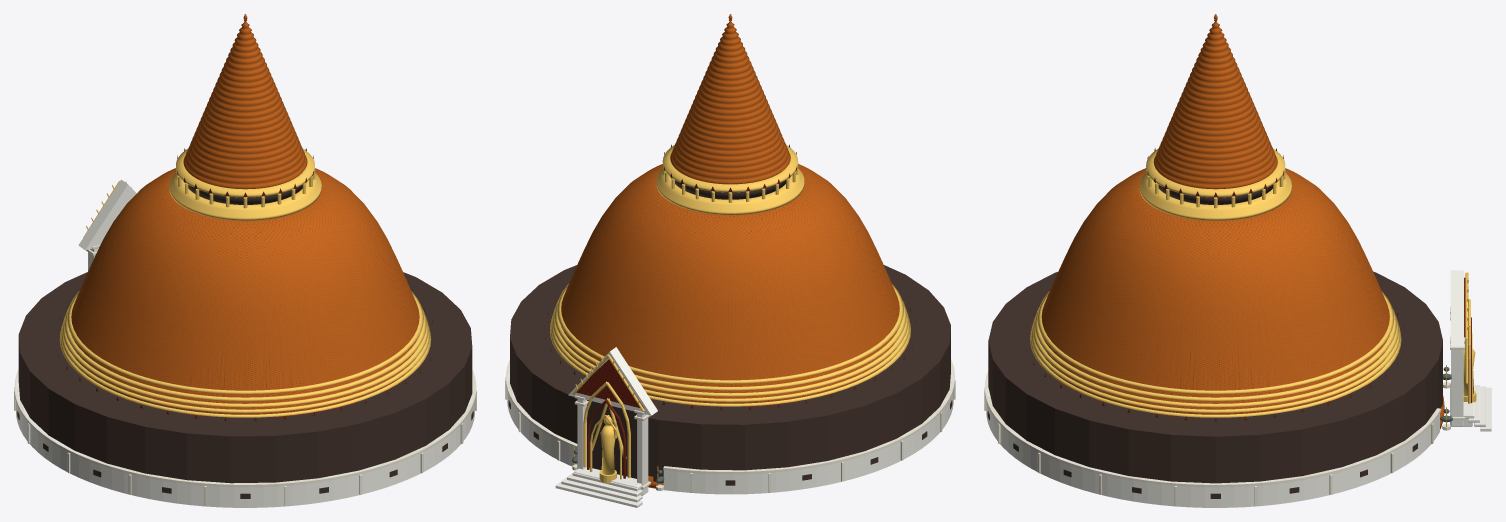
File: HNP_Chedi_v009.fbx
The picture shows the model from 3 angles, left to right: view 1: azimuth 30°, elevation 25°; view 2: azimuth 150°, elevation 25°; view 3: azimuth 270°, elevation 25°; orthographic projection. The views are drawn at different scales.
Visible parts, largest first — view 1: HNP_Chedi_v009_HNP009_GoldBrick, COLL_ChediBase, HNP_Chedi_v009_HNP009_GoldHighlight, HNP_Chedi_v009_HNP009_White, HNP_Chedi_v009_HNP009_Ivory, HNP_Chedi_v009_HNP009_DarkInset, HNP_Chedi_v009_HNP009_Terracotta; view 2: HNP_Chedi_v009_HNP009_GoldBrick, COLL_ChediBase, HNP_Chedi_v009_HNP009_GoldHighlight, HNP_Chedi_v009_HNP009_White, HNP_Chedi_v009_HNP009_Ivory, HNP_Chedi_v009_HNP009_DarkInset, HNP_Chedi_v009_HNP009_Terracotta; view 3: HNP_Chedi_v009_HNP009_GoldBrick, COLL_ChediBase, HNP_Chedi_v009_HNP009_GoldHighlight, HNP_Chedi_v009_HNP009_White, HNP_Chedi_v009_HNP009_Ivory, HNP_Chedi_v009_HNP009_DarkInset, HNP_Chedi_v009_HNP009_Terracotta.
Part boxes in pixels (bbox=[...]): HNP_Chedi_v009_HNP009_GoldBrick: bbox=[71, 14, 419, 414]; COLL_ChediBase: bbox=[18, 272, 472, 483]; HNP_Chedi_v009_HNP009_GoldHighlight: bbox=[59, 149, 431, 417]; HNP_Chedi_v009_HNP009_White: bbox=[16, 179, 474, 507]; HNP_Chedi_v009_HNP009_Ivory: bbox=[14, 245, 476, 506]; HNP_Chedi_v009_HNP009_DarkInset: bbox=[17, 182, 473, 498]; HNP_Chedi_v009_HNP009_Terracotta: bbox=[54, 148, 436, 421]; HNP_Chedi_v009_HNP009_GoldBrick: bbox=[561, 14, 899, 488]; COLL_ChediBase: bbox=[510, 265, 950, 482]; HNP_Chedi_v009_HNP009_GoldHighlight: bbox=[550, 145, 910, 485]; HNP_Chedi_v009_HNP009_White: bbox=[507, 347, 953, 507]; HNP_Chedi_v009_HNP009_Ivory: bbox=[505, 359, 955, 492]; HNP_Chedi_v009_HNP009_DarkInset: bbox=[508, 178, 952, 485]; HNP_Chedi_v009_HNP009_Terracotta: bbox=[544, 144, 916, 478]; HNP_Chedi_v009_HNP009_GoldBrick: bbox=[1041, 14, 1444, 429]; COLL_ChediBase: bbox=[988, 271, 1442, 483]; HNP_Chedi_v009_HNP009_GoldHighlight: bbox=[1030, 149, 1476, 426]; HNP_Chedi_v009_HNP009_White: bbox=[986, 270, 1491, 507]; HNP_Chedi_v009_HNP009_Ivory: bbox=[984, 307, 1465, 506]; HNP_Chedi_v009_HNP009_DarkInset: bbox=[987, 182, 1417, 498]; HNP_Chedi_v009_HNP009_Terracotta: bbox=[1026, 148, 1471, 421].
Size of the model in its own units: 46.43 by 44 by 50.99.
7 materials, 2 textured.
